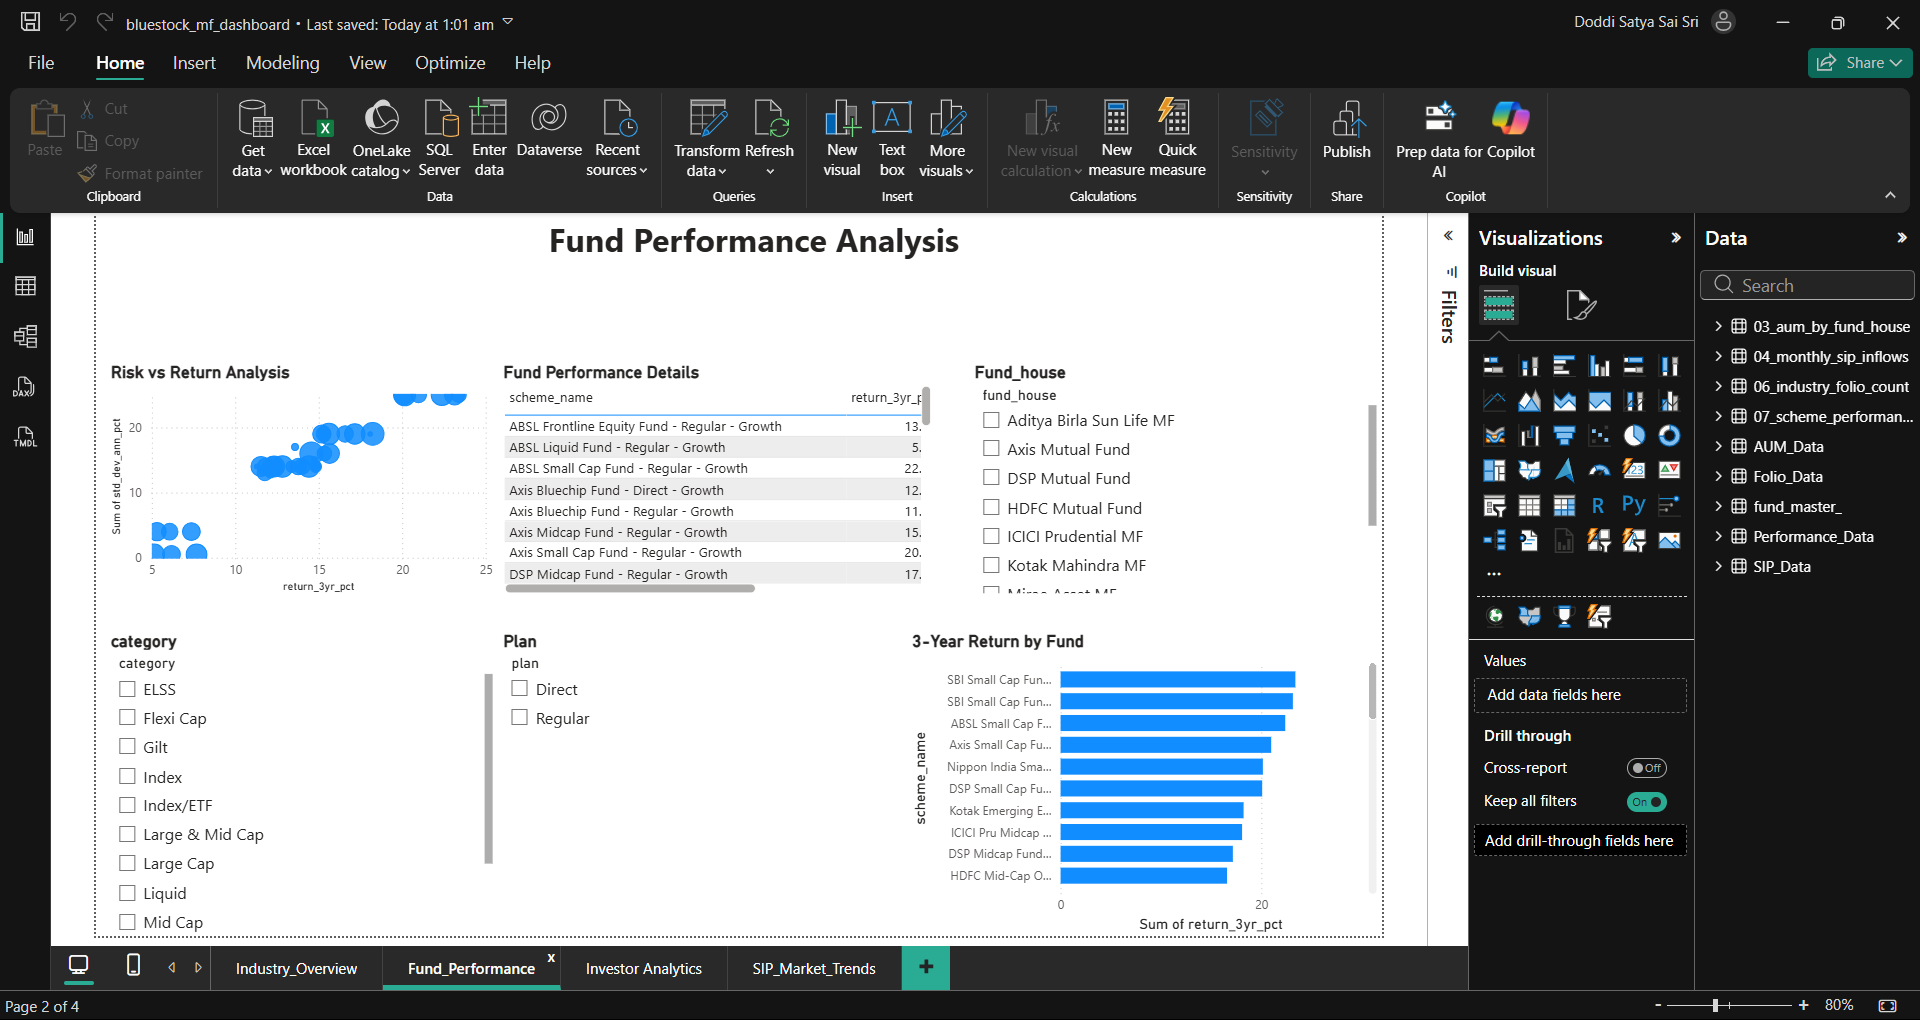

Layout of this report page (visuals, bound fields, positions):
{"tool":"powerbi","page":{"name":"Fund_Performance","canvas":[1280,720],"ordinal":1},"visuals":[{"type":"scatterChart","title":"Risk vs Return Analysis","fields":{"X":["Performance_Data.return_3yr_pct"],"Y":["Sum(Performance_Data.std_dev_ann_pct)"],"Size":["Sum(Performance_Data.aum_crore)"]},"box":[10,147.5,390,235],"z":0},{"type":"tableEx","title":"Fund Performance Details","fields":{"Values":["Performance_Data.scheme_name","Performance_Data.return_3yr_pct","Performance_Data.sharpe_ratio","Performance_Data.alpha","Performance_Data.max_drawdown_pct"]},"box":[400,147.5,435,235],"z":1000},{"type":"slicer","title":"Fund_house","fields":{"Values":["Performance_Data.fund_house"]},"box":[870,147.5,410,235],"z":2000},{"type":"slicer","title":"category","fields":{"Values":["Performance_Data.category"]},"box":[10,415,390,305],"z":3000},{"type":"slicer","title":"Plan","fields":{"Values":["Performance_Data.plan"]},"box":[400,415,407.5,305],"z":4000},{"type":"clusteredBarChart","title":"3-Year Return by Fund","fields":{"Category":["Performance_Data.scheme_name"],"Y":["Sum(Performance_Data.return_3yr_pct)"]},"box":[807.5,415,472.5,305],"z":5000},{"type":"textbox","box":[300,0,710,102.5],"z":6000}]}

Visuals, with their boxes on the page's 1280x720 design canvas (x1, y1, x2, y2). These are canvas units, not pixel positions in the 1920x1020 screenshot, which may show the page scaled, cropped or inside an application window:
"Risk vs Return Analysis" scatterChart: [x1=10, y1=148, x2=400, y2=382]
"Fund Performance Details" tableEx: [x1=400, y1=148, x2=835, y2=382]
"Fund_house" slicer: [x1=870, y1=148, x2=1280, y2=382]
"category" slicer: [x1=10, y1=415, x2=400, y2=720]
"Plan" slicer: [x1=400, y1=415, x2=808, y2=720]
"3-Year Return by Fund" clusteredBarChart: [x1=808, y1=415, x2=1280, y2=720]
textbox: [x1=300, y1=0, x2=1010, y2=102]
